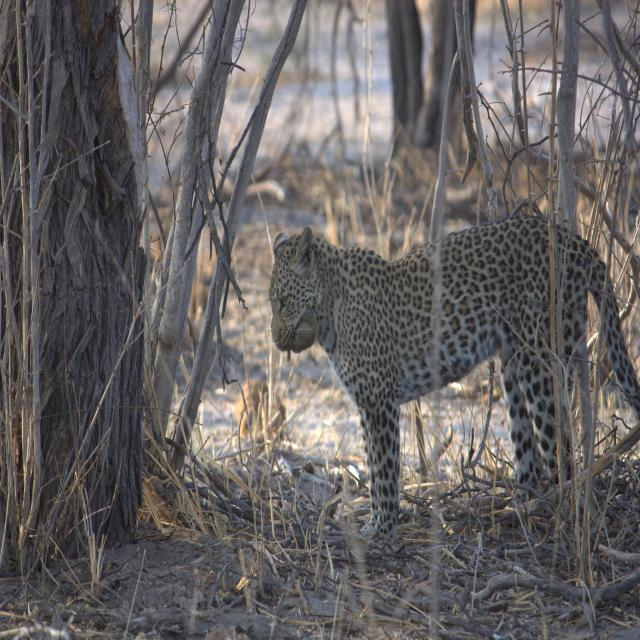Leopard: (259, 215, 640, 528)
